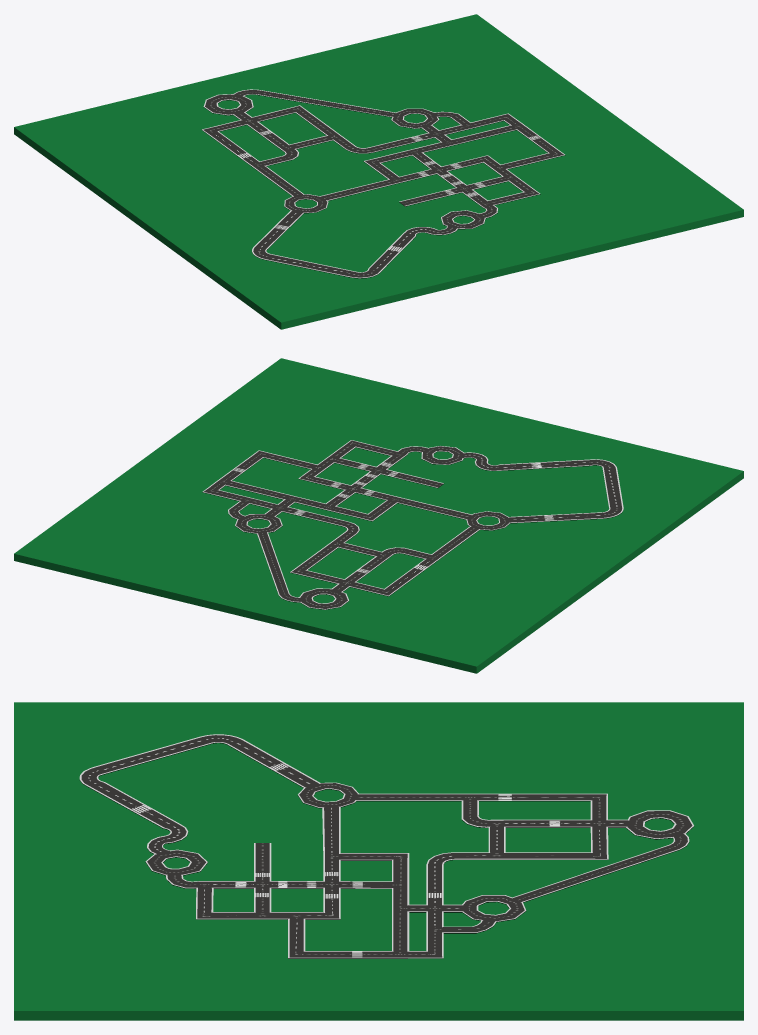
File: street1 1.fbx
3 views of the same model, one above another, from view 1: azimuth 30°, elevation 25°; view 2: azimuth 150°, elevation 25°; view 3: azimuth 270°, elevation 25° (orthographic). The views are drawn at different scales.
Parts seen in each view (by area): view 1: Plane.001, Plane; view 2: Plane.001, Plane; view 3: Plane.001, Plane.
Boxes of the visible parts, x1,y1,x2,y2 form: Plane.001: (14, 14, 743, 329); Plane: (201, 89, 565, 278); Plane.001: (14, 358, 743, 673); Plane: (202, 440, 623, 609); Plane.001: (14, 702, 743, 1020); Plane: (79, 734, 693, 958).
Size of the model in its own units: 25316 by 394 by 25316.
Materials: 9 (6 with a texture image).
